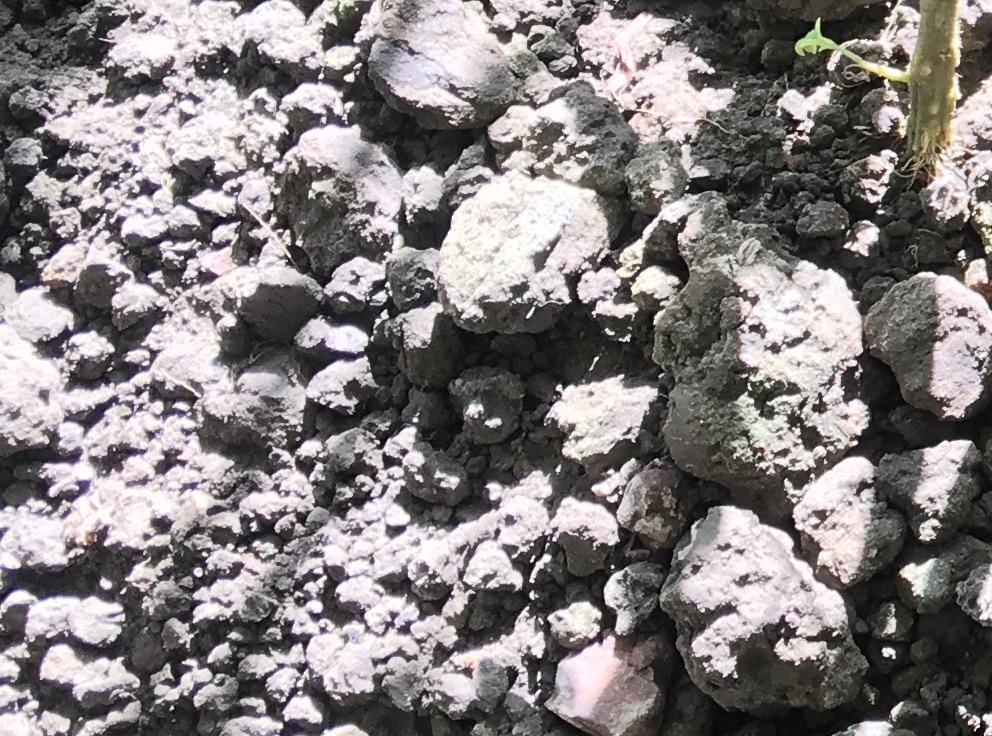block: (661, 506, 869, 712), (433, 165, 618, 342), (865, 268, 992, 424)
